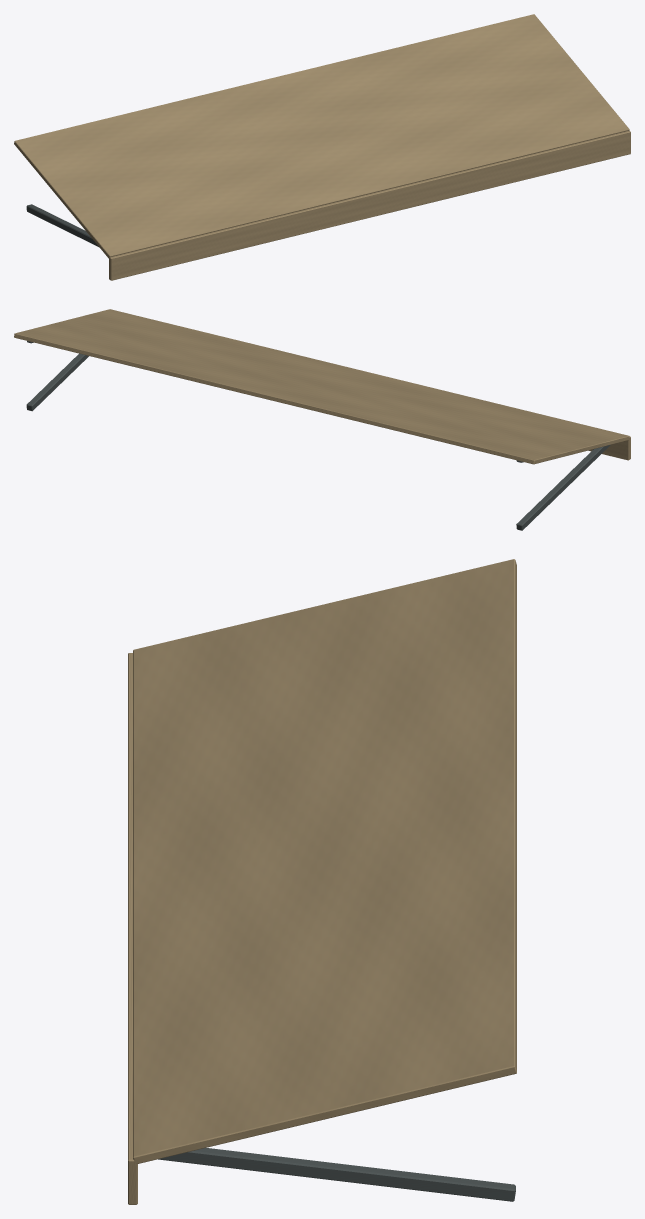
The model's file is D_Awning_Canvas_visual.glb.
3 views of the same model, one above another, from view 1: azimuth 30°, elevation 25°; view 2: azimuth 150°, elevation 25°; view 3: azimuth 270°, elevation 25° (orthographic). The views are drawn at different scales.
Visible parts, largest first — view 1: D_Awning_Canvas__VIS; view 2: D_Awning_Canvas__VIS; view 3: D_Awning_Canvas__VIS.
Boxes of the visible parts, x1,y1,x2,y2 form: D_Awning_Canvas__VIS: (14, 14, 630, 280); D_Awning_Canvas__VIS: (14, 309, 630, 530); D_Awning_Canvas__VIS: (128, 559, 516, 1204).
Bounding box in the file's own units: 12 × 1.63 × 3.89.
1 material, 1 textured.
